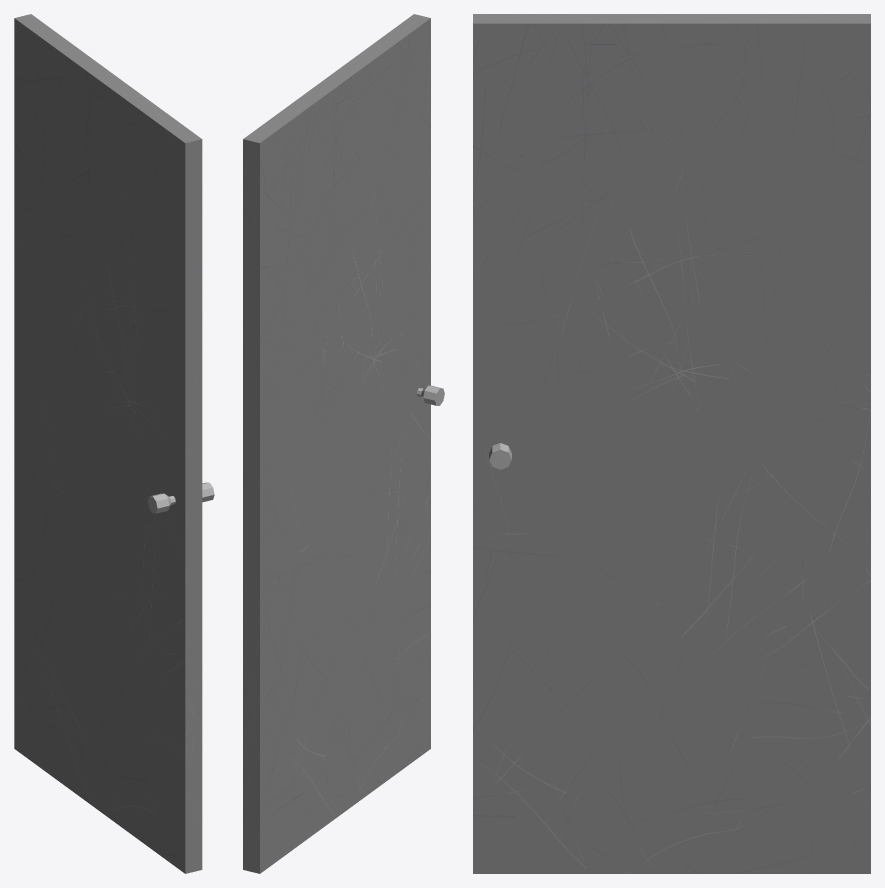
Rendered from non interactible door.fbx.
3 renders of one model, left to right at view 1: azimuth 30°, elevation 25°; view 2: azimuth 150°, elevation 25°; view 3: azimuth 270°, elevation 25°, orthographic. The views are drawn at different scales.
Visible parts, largest first — view 1: non interactible door; view 2: non interactible door; view 3: non interactible door.
Boxes of the visible parts, x1,y1,x2,y2 form: non interactible door: (14, 14, 214, 873); non interactible door: (243, 14, 444, 873); non interactible door: (473, 14, 870, 873).
Size of the model in its own units: 26.09 by 319 by 135.
